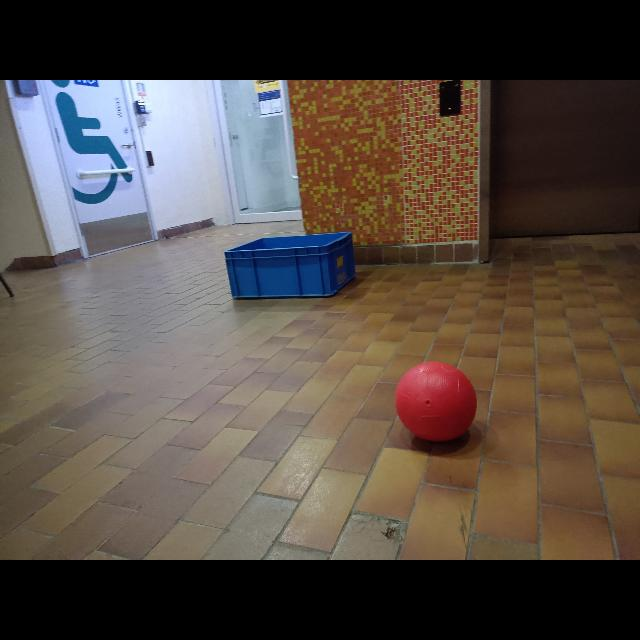R: (395, 361, 477, 441)
